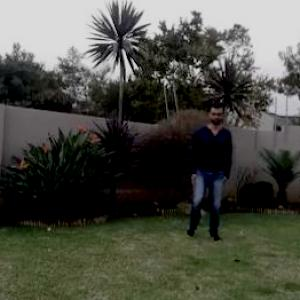follow: (188, 98, 230, 241)
